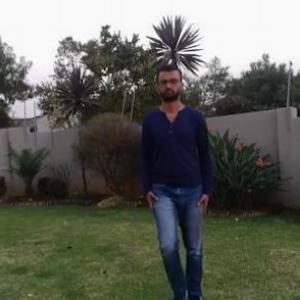follow: (146, 60, 209, 299)
